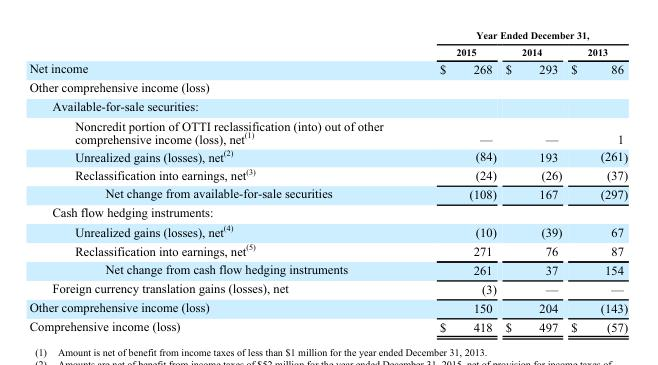table: (28, 29, 627, 333)
table column: (28, 29, 410, 333), (410, 29, 500, 333), (500, 29, 565, 333), (565, 29, 627, 333)
table column header: (28, 29, 627, 58)
table projected row header: (28, 77, 627, 96), (28, 96, 627, 115), (28, 202, 627, 220)
table row: (28, 115, 627, 146), (28, 220, 627, 240), (28, 58, 627, 77), (28, 77, 627, 96), (28, 96, 627, 115), (28, 164, 627, 183), (28, 183, 627, 202), (28, 240, 627, 259), (28, 259, 627, 278), (28, 278, 627, 297), (28, 297, 627, 316), (28, 146, 627, 164), (28, 202, 627, 220), (28, 316, 627, 333), (28, 43, 627, 58), (28, 29, 627, 43)
table spanning cell: (410, 29, 627, 43)
